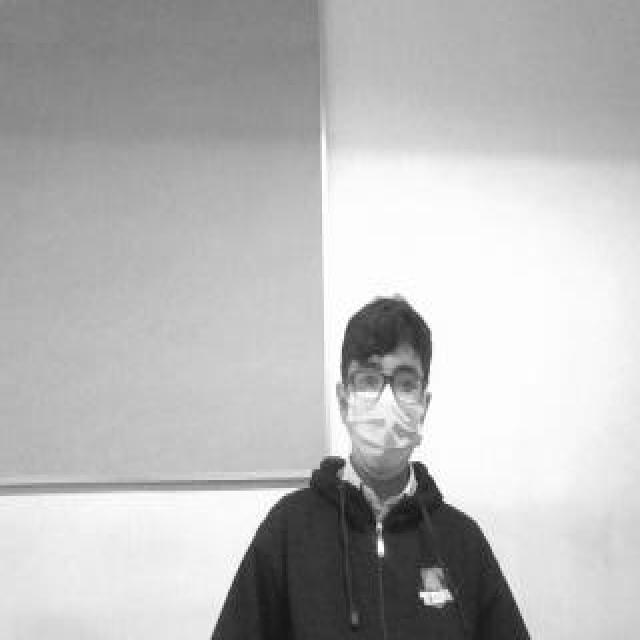Focused: (340, 312, 426, 481)
